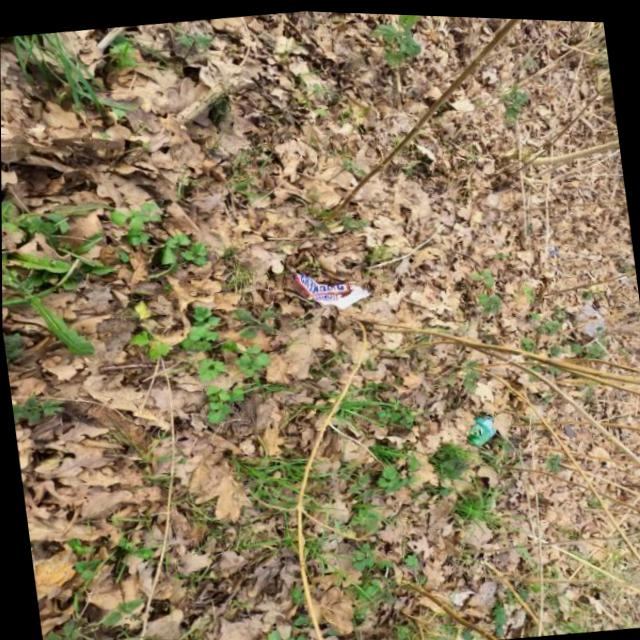Can-Metal: (462, 406, 499, 445)
Plastic: (288, 259, 375, 314)
